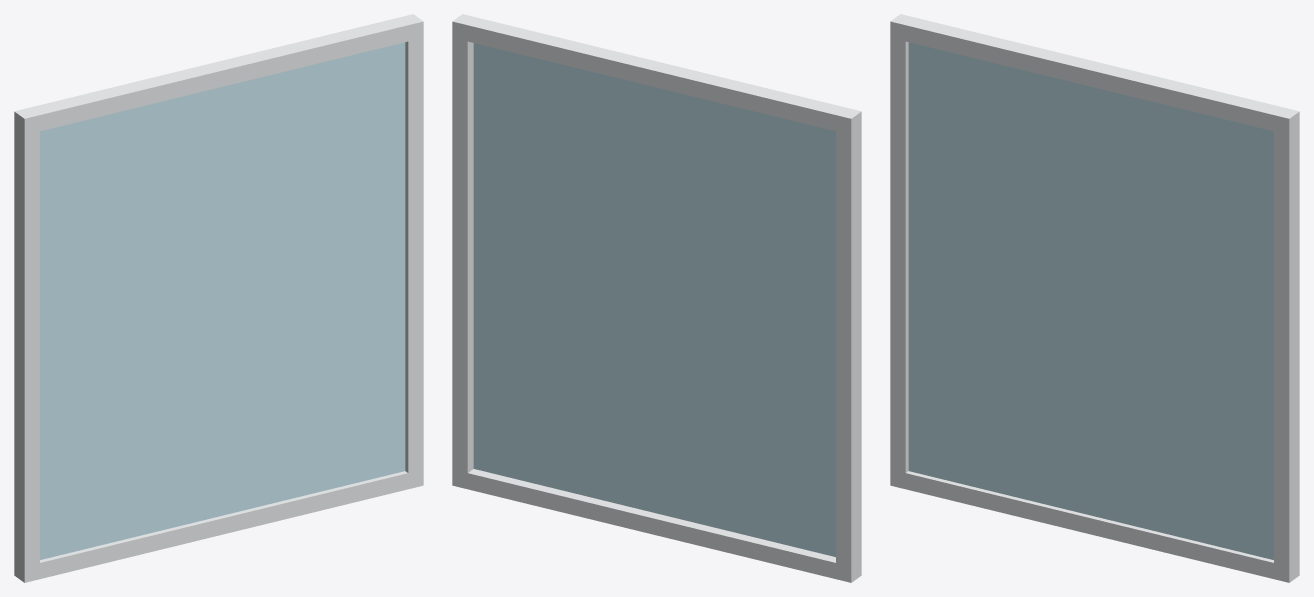
The model's file is window_large_single_pane.glb.
3 views of the same model, side by side, from view 1: azimuth 30°, elevation 25°; view 2: azimuth 150°, elevation 25°; view 3: azimuth 330°, elevation 25° (orthographic).
Parts seen in each view (by area): view 1: single_glass_pane, left_frame, top_frame, right_frame, bottom_frame; view 2: single_glass_pane, left_frame, right_frame, top_frame, bottom_frame; view 3: single_glass_pane, right_frame, top_frame, left_frame, bottom_frame.
Part boxes in pixels (x1,y1,x2,y2): single_glass_pane: (40, 42, 405, 559); left_frame: (14, 107, 39, 582); top_frame: (30, 18, 408, 131); right_frame: (398, 14, 423, 489); bottom_frame: (40, 471, 408, 578); single_glass_pane: (473, 43, 835, 556); left_frame: (836, 107, 861, 582); right_frame: (452, 14, 477, 489); top_frame: (467, 18, 845, 131); bottom_frame: (467, 469, 835, 578); single_glass_pane: (908, 42, 1273, 559); right_frame: (1274, 107, 1299, 582); top_frame: (905, 18, 1283, 131); left_frame: (890, 14, 915, 489); bottom_frame: (905, 471, 1273, 578).
Bounding box in the file's own units: 1.8 × 2 × 0.08.
